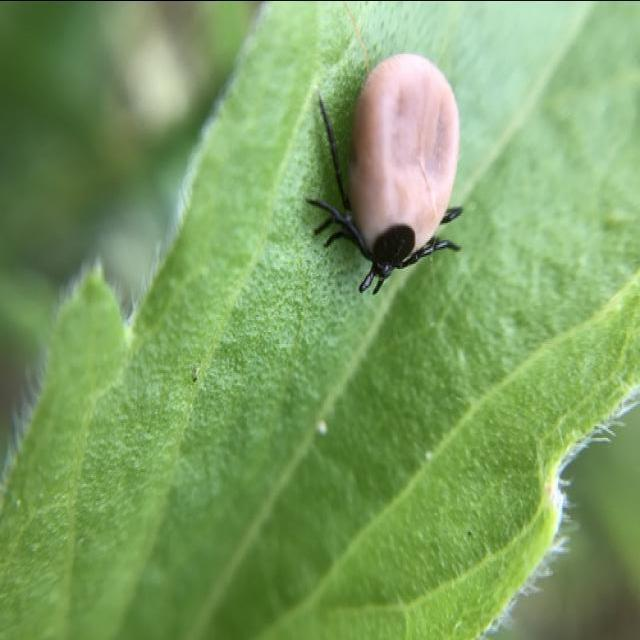Ixodes Ricinus-F-Fed: (306, 49, 463, 295)
